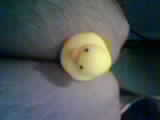duck: (48, 20, 118, 86)
